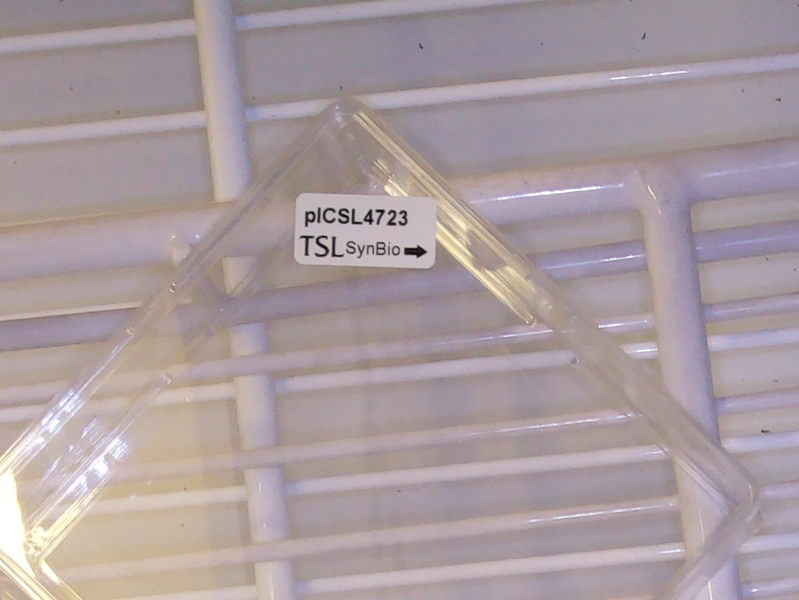plate: (1, 90, 769, 600)
